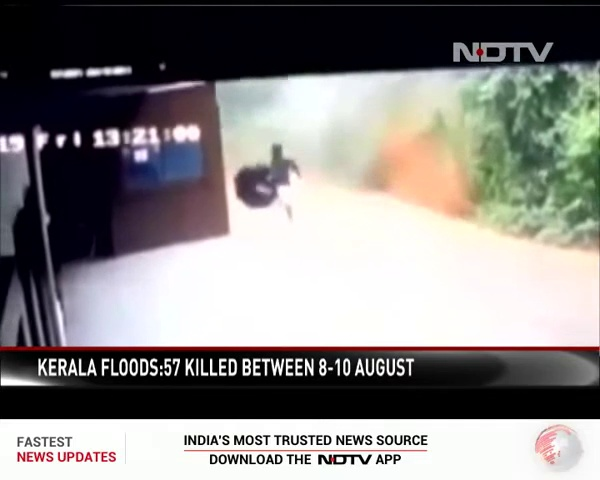person: (261, 140, 305, 233)
